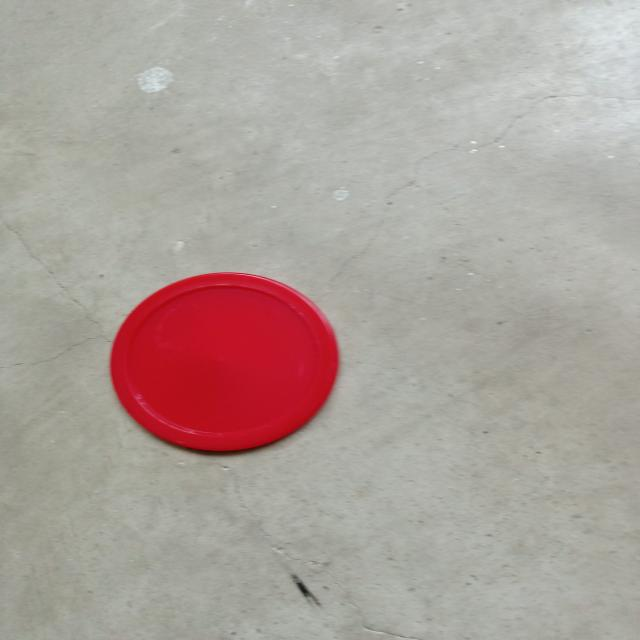chip: (104, 270, 344, 452)
